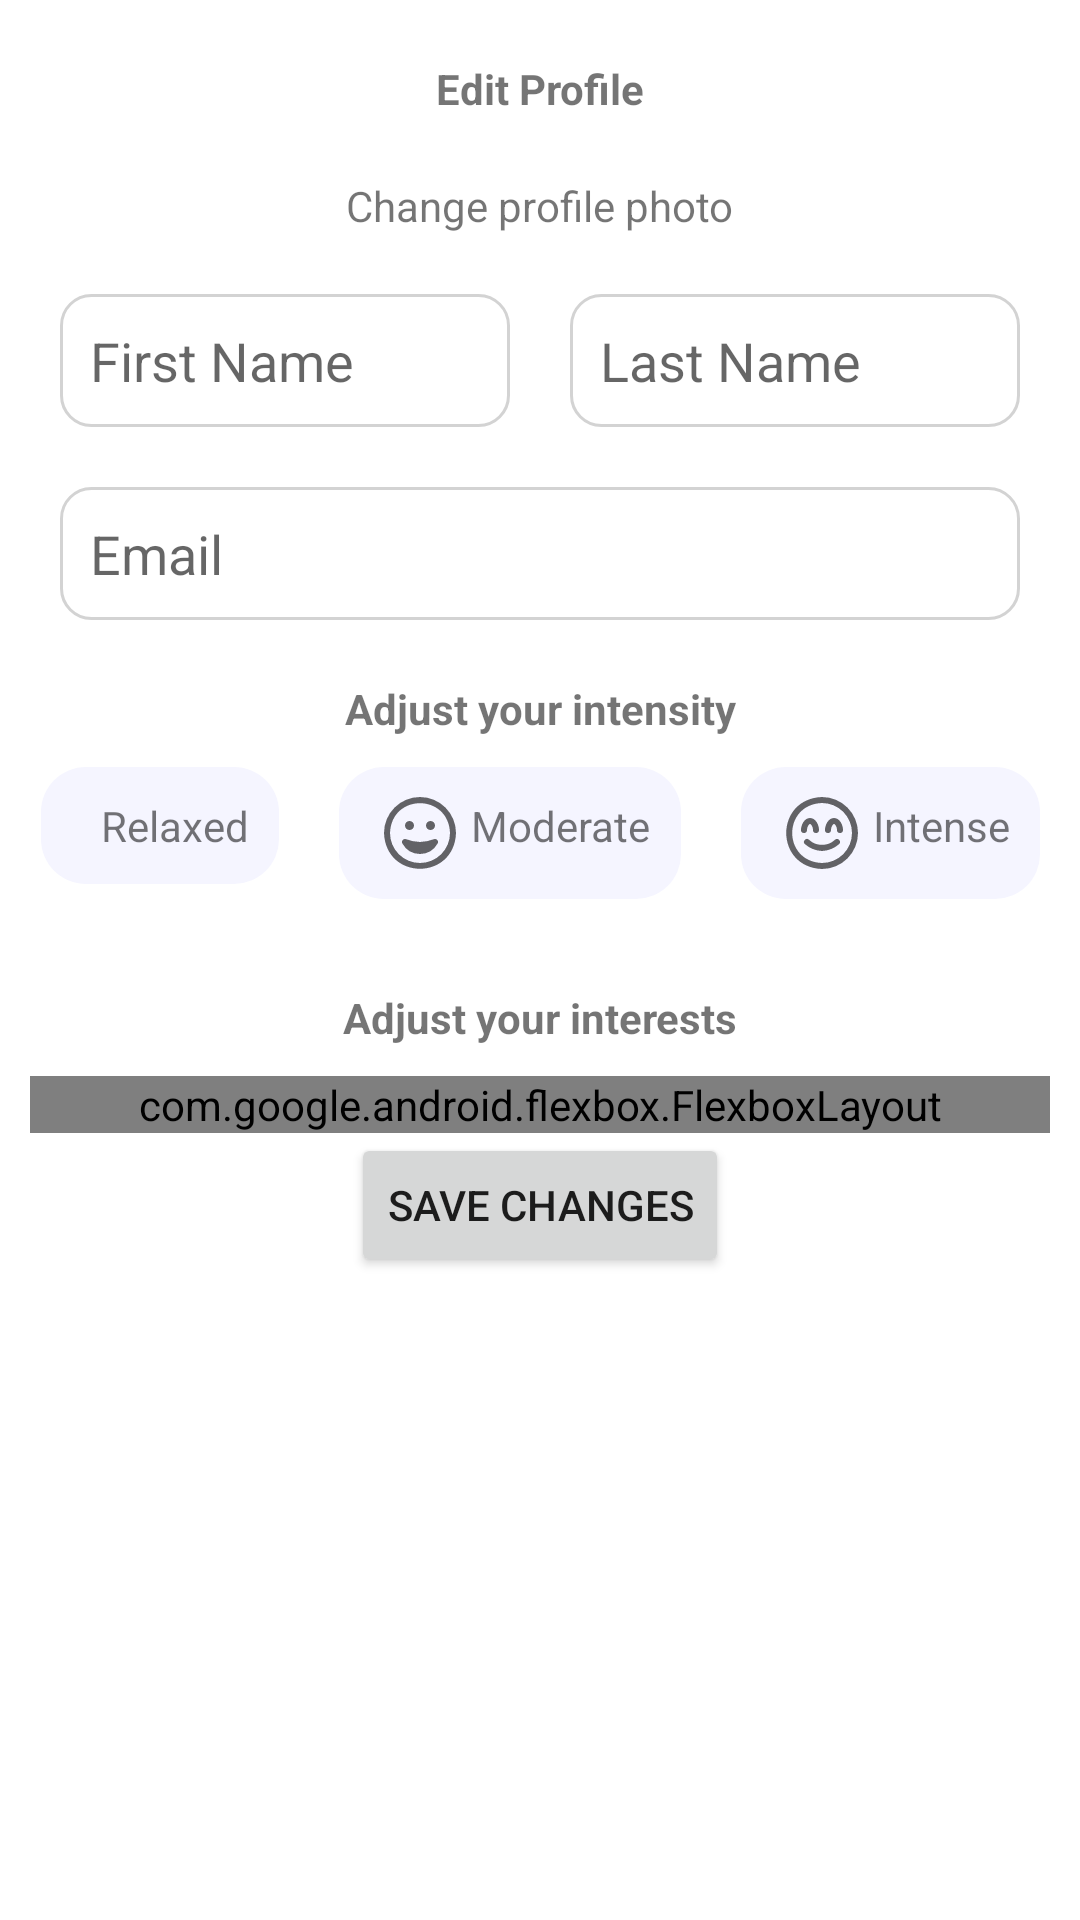

Named icons in this screenshot (1080x1920) and their bounding boxes, box(x1, y1, x2, y2):
grin: box(384, 797, 456, 869)
smile beam: box(786, 797, 858, 869)
